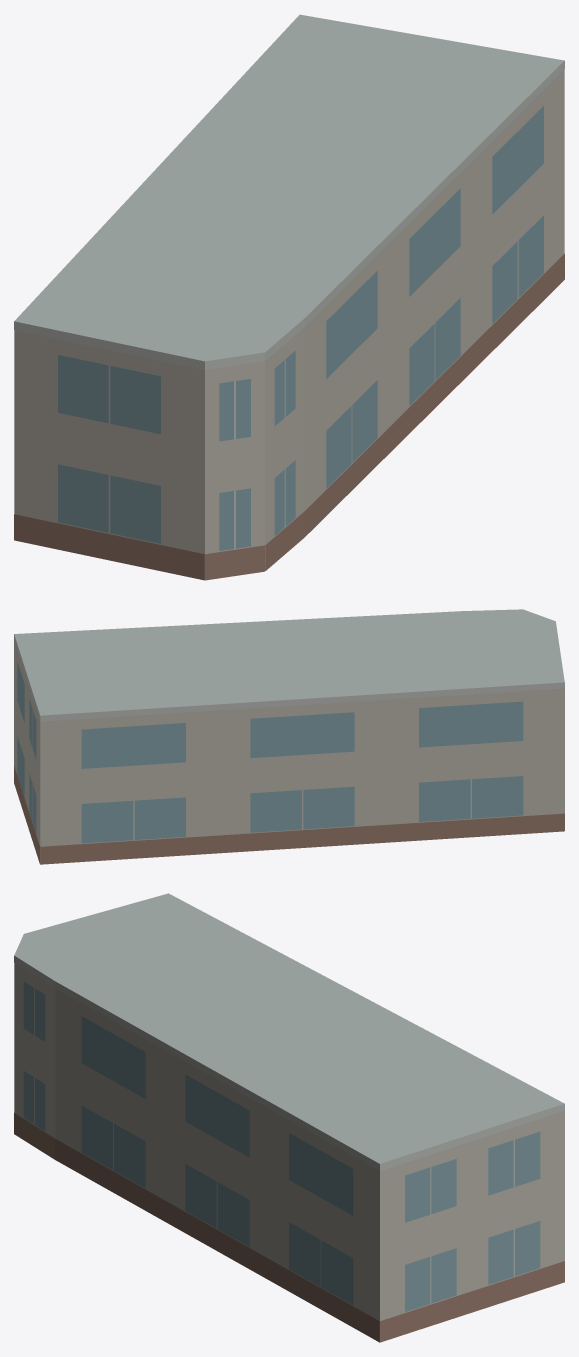
The model's file is survey-upis-32729705.glb.
3 renders of one model, top to bottom at view 1: azimuth 30°, elevation 25°; view 2: azimuth 150°, elevation 25°; view 3: azimuth 270°, elevation 25°, orthographic. The views are drawn at different scales.
Parts seen in each view (by area): view 1: survey-upis-32729705.tmp; view 2: survey-upis-32729705.tmp; view 3: survey-upis-32729705.tmp.
Part boxes in pixels (box(x1,y1,x2,y2)): survey-upis-32729705.tmp: box(14, 14, 564, 580); survey-upis-32729705.tmp: box(14, 609, 564, 864); survey-upis-32729705.tmp: box(14, 893, 564, 1342).
Bounding box in the file's own units: 19.83 × 6.1 × 17.05.
